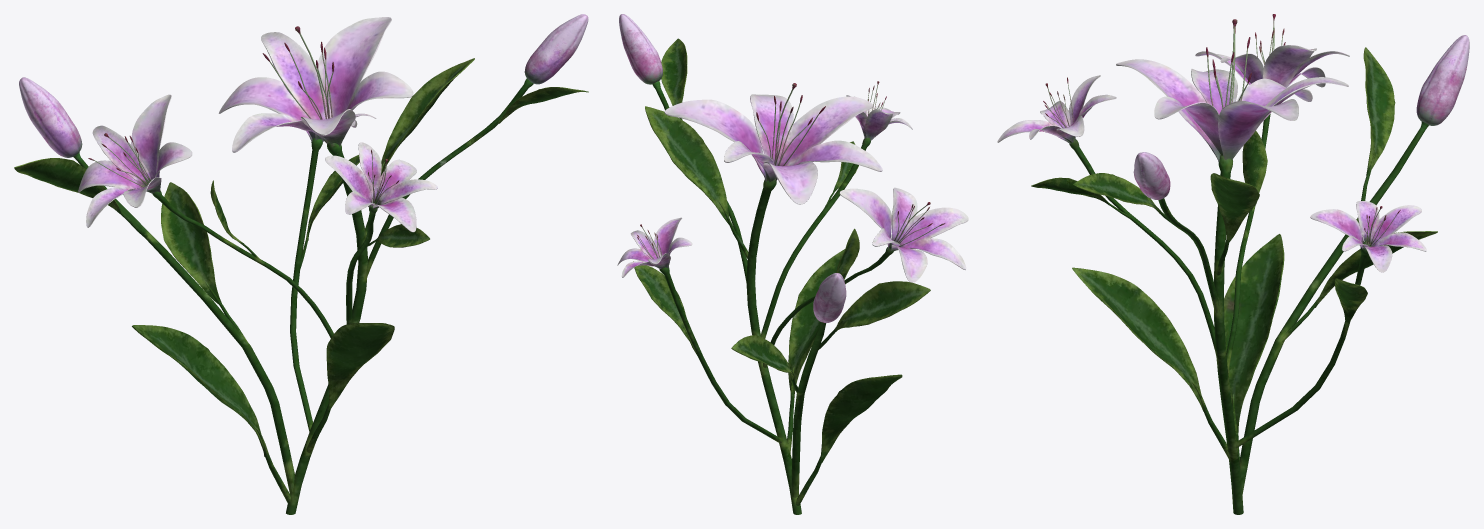
3 views of the same model, side by side, from view 1: azimuth 30°, elevation 25°; view 2: azimuth 150°, elevation 25°; view 3: azimuth 270°, elevation 25° (orthographic). The views are drawn at different scales.
Visible parts, largest first — view 1: Cylinder.008_0; view 2: Cylinder.008_0; view 3: Cylinder.008_0.
Part boxes in pixels (left/top/right/bottom): Cylinder.008_0: left=14, top=14, right=588, bottom=514; Cylinder.008_0: left=617, top=14, right=968, bottom=514; Cylinder.008_0: left=997, top=14, right=1469, bottom=514.
Bounding box in the file's own units: 12.92 × 12.96 × 11.19.
Materials: 1 (1 with a texture image).
